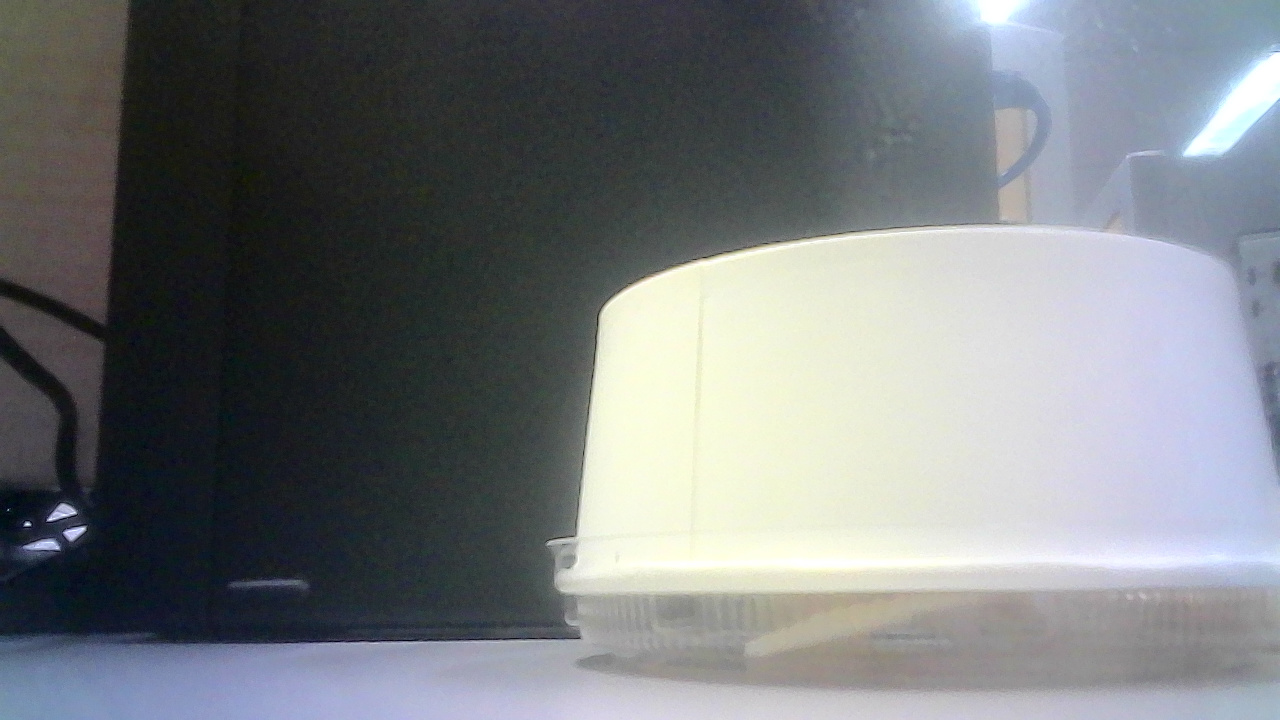Undefined_Waste: (523, 225, 1280, 688)
